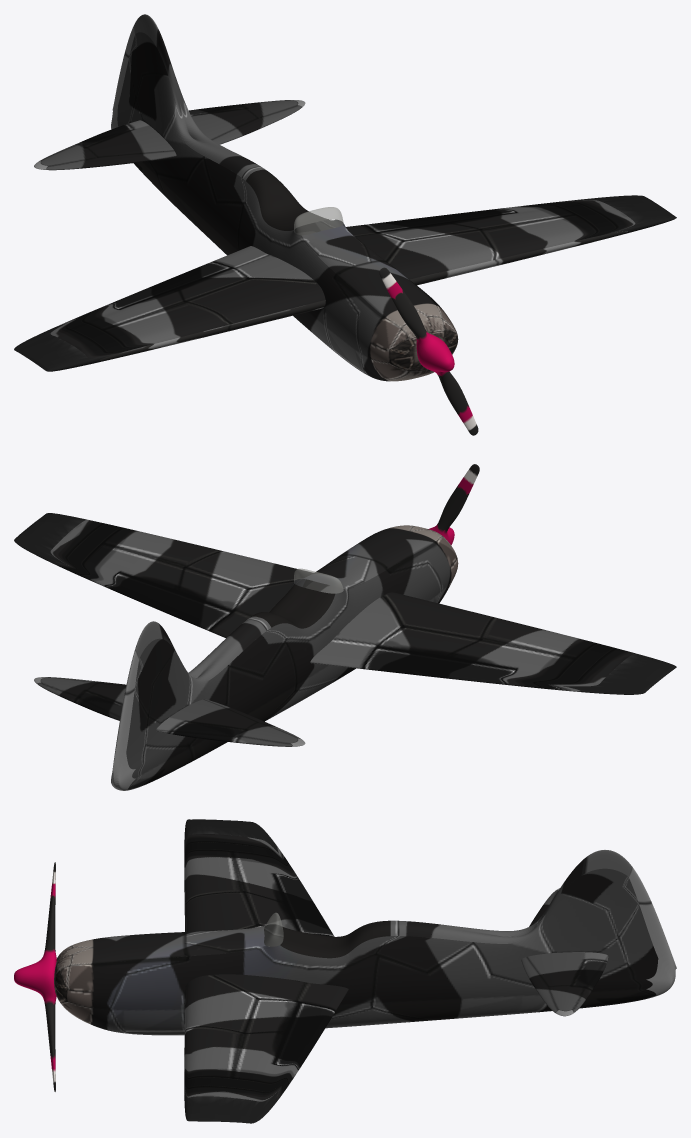
File: StuntPlaneFinal.fbx
3 renders of one model, top to bottom at view 1: azimuth 30°, elevation 25°; view 2: azimuth 150°, elevation 25°; view 3: azimuth 270°, elevation 25°, orthographic.
Visible parts, largest first — view 1: Plane, Wing, RearTailWings, Propeller; view 2: Wing, Plane, RearTailWings, Propeller; view 3: Plane, Wing, RearTailWings, Propeller.
Boxes of the visible parts, x1,y1,x2,y2 form: Plane: (111,14,458,381); Wing: (14,195,676,371); RearTailWings: (34,100,305,170); Propeller: (379,267,478,435); Wing: (14,513,676,694); Plane: (111,525,458,790); RearTailWings: (34,677,305,746); Propeller: (428,464,479,545); Plane: (54,850,676,1035); Wing: (184,819,348,1123); RearTailWings: (521,888,608,1016); Propeller: (14,862,56,1091).
Size of the model in its own units: 474 by 162 by 440.
Materials: 6 (4 with a texture image).
